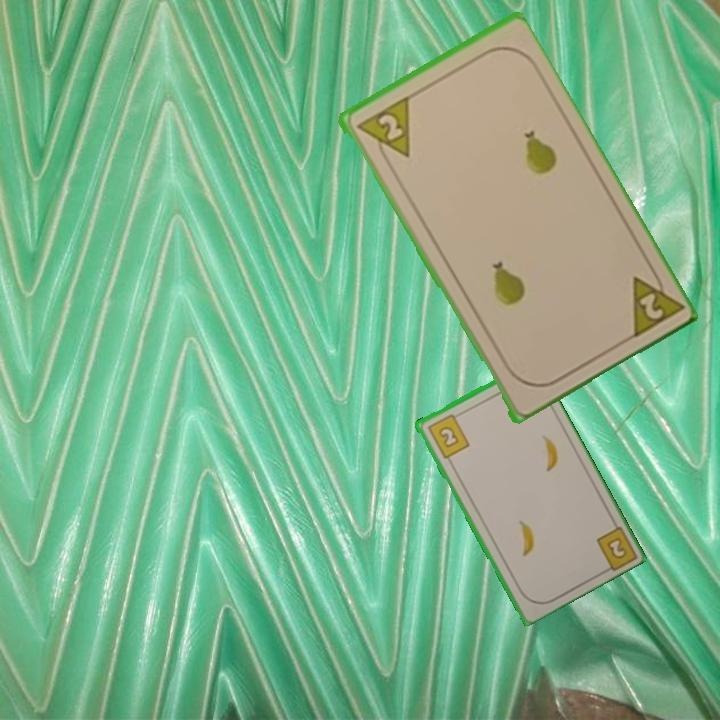2b: (424, 410, 472, 461), (603, 533, 630, 562)
2p: (625, 261, 684, 342), (352, 93, 413, 169)
